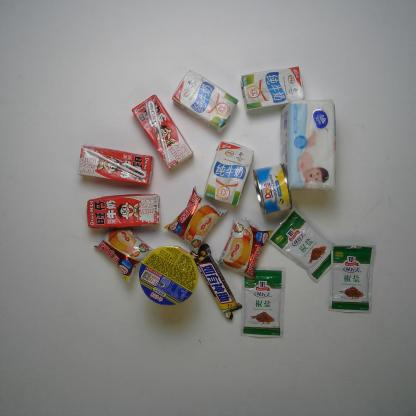Canned Food: (250, 162, 294, 216)
Chocolate: (189, 243, 243, 321)
Dessert: (162, 184, 228, 257), (213, 211, 276, 281), (92, 223, 158, 285)
Instant Noodles: (138, 244, 200, 307)
Milk: (130, 93, 195, 172), (170, 67, 240, 136), (202, 139, 255, 208), (75, 144, 155, 187), (239, 64, 306, 112), (82, 192, 163, 231)
Seasoner: (265, 204, 342, 285), (238, 264, 287, 340), (328, 244, 378, 316)
Tissue: (278, 97, 339, 195)
